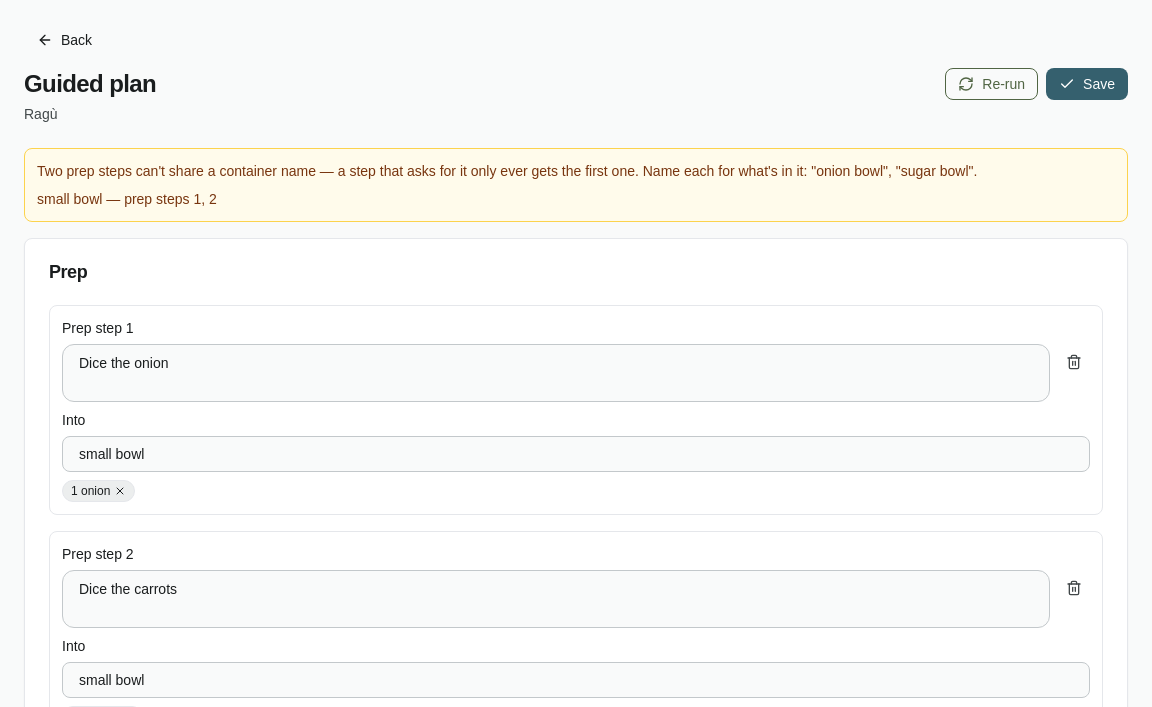
GuidedPlanPage — the duplicate-container warning › clears once one of the two bowls is renamed
Expected: the element with test id "guided-plan-duplicate-container-warning" is shown, [24,148,1128,222]
Off the LIVE draft, so it clears as the name is typed — no save needed.
Replace the text in the field with test id "guided-plan-prep-container" below "Prep step 2" with "carrot bowl" at point(576, 680), box [79,670,1073,690]
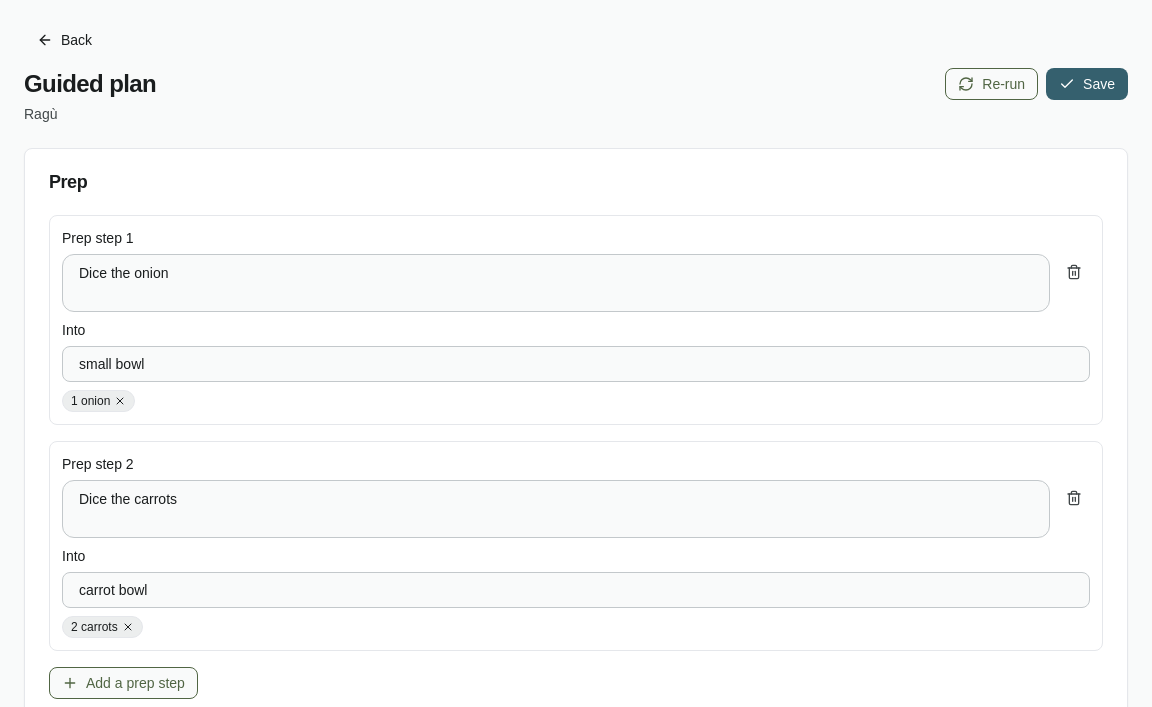
Expected: the element with test id "guided-plan-duplicate-container-warning" is gone
